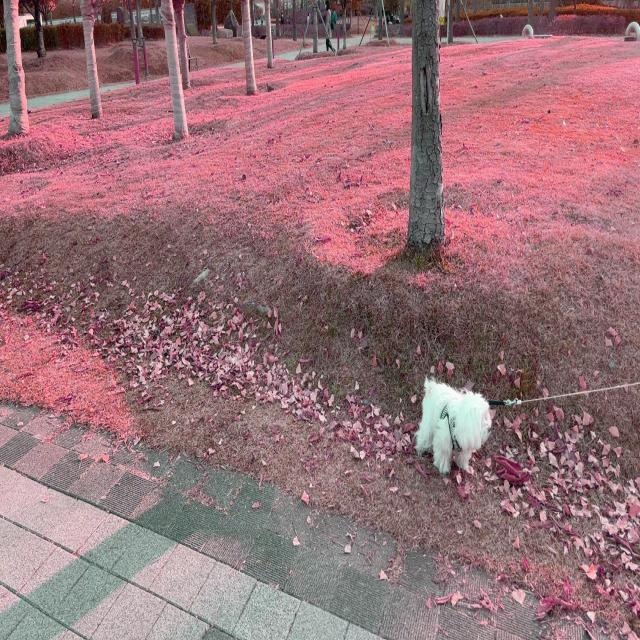Dog: (414, 375, 493, 475)
